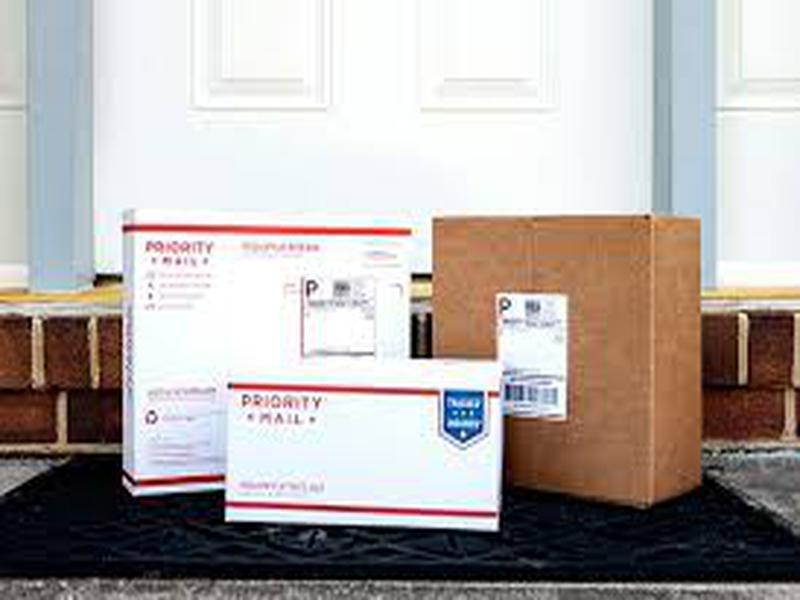package: (110, 198, 420, 508), (426, 207, 713, 512), (216, 353, 512, 538)
